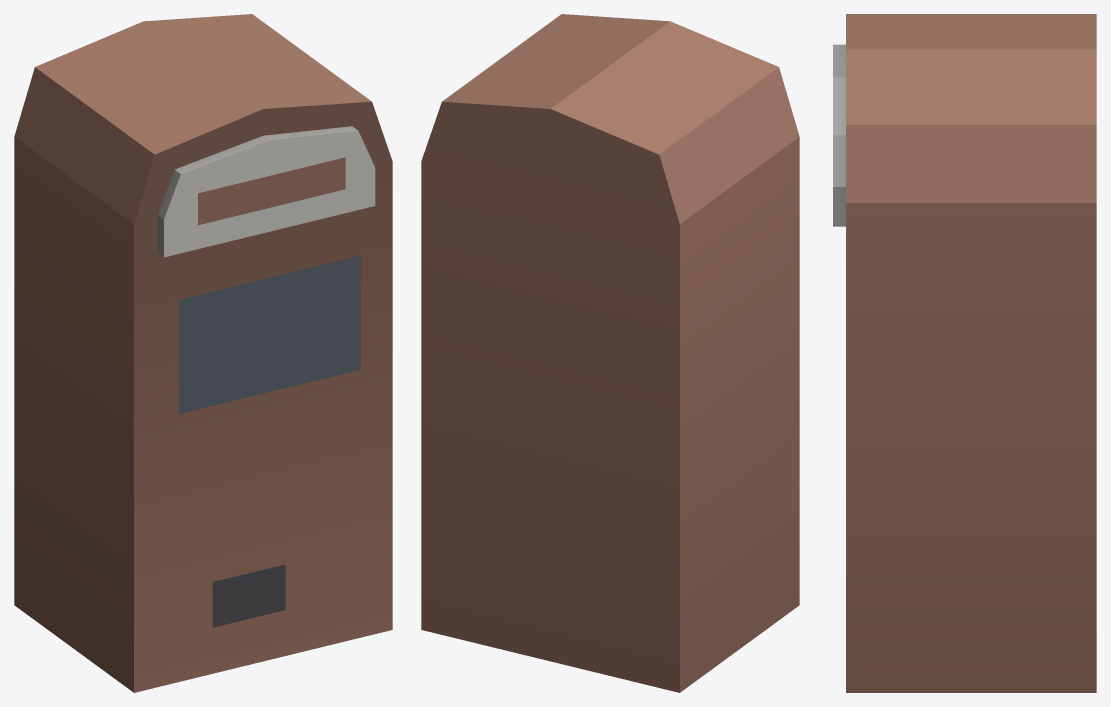
Rendered from soda.lod2.glb.
3 views of the same model, side by side, from view 1: azimuth 30°, elevation 25°; view 2: azimuth 150°, elevation 25°; view 3: azimuth 270°, elevation 25° (orthographic). The views are drawn at different scales.
Bounding box in the file's own units: 0.71 × 1.45 × 0.61.
